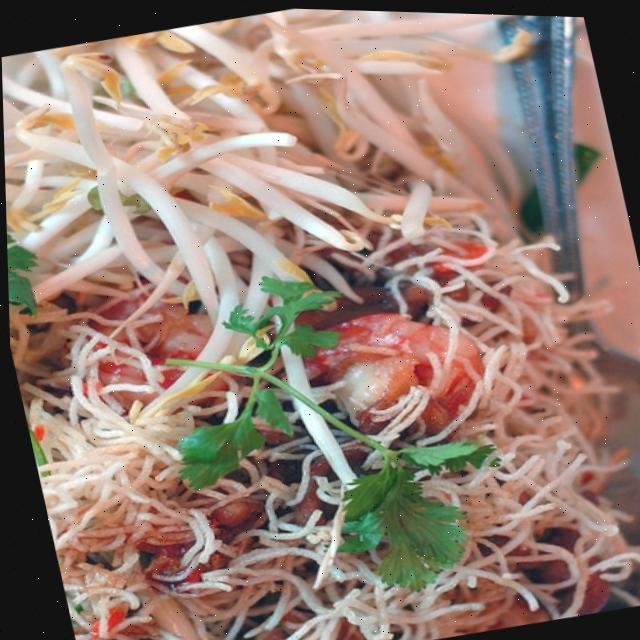面条主食: (0, 0, 628, 640)
